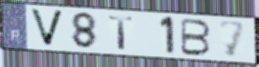1: (158, 16, 176, 57)
7: (218, 19, 247, 60)
8: (69, 11, 100, 50)
B: (179, 17, 213, 58)
T: (107, 15, 136, 52)
V: (28, 7, 66, 49)
